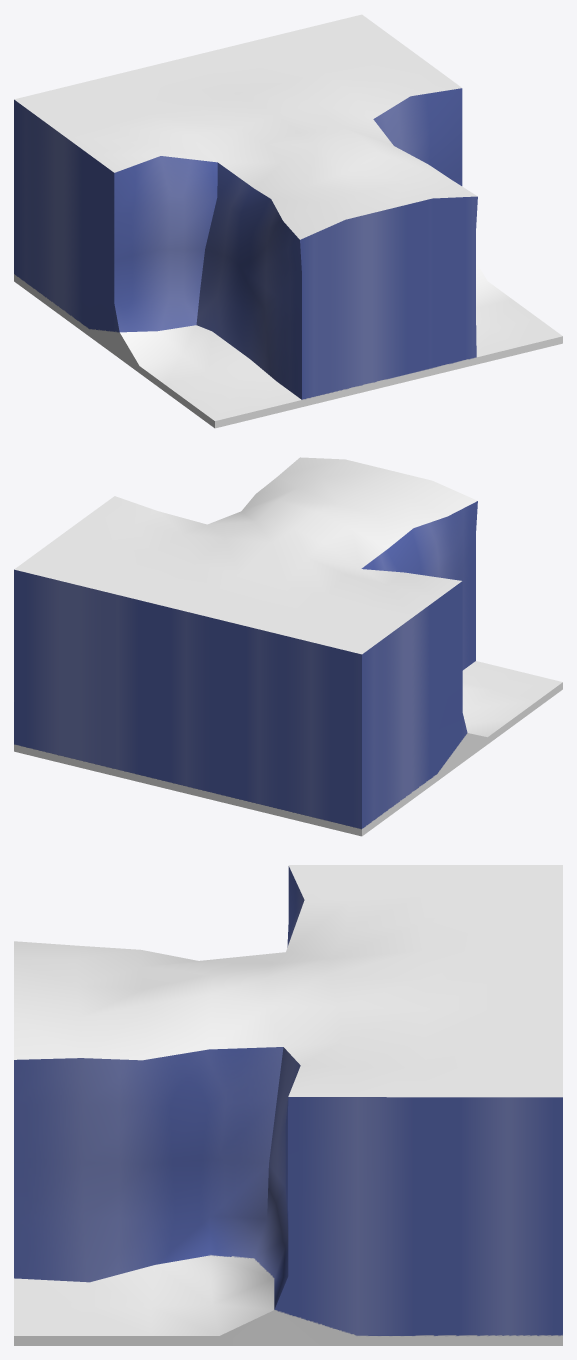
File: wall_straight_join1_1.glb
The picture shows the model from 3 angles, top to bottom: view 1: azimuth 30°, elevation 25°; view 2: azimuth 150°, elevation 25°; view 3: azimuth 270°, elevation 25°; orthographic projection. The views are drawn at different scales.
Parts seen in each view (by area): view 1: wall_slim_join1_1.001; view 2: wall_slim_join1_1.001; view 3: wall_slim_join1_1.001.
Part boxes in pixels (x1=…): wall_slim_join1_1.001: x1=14, y1=14, x2=562, y2=428; wall_slim_join1_1.001: x1=14, y1=457, x2=562, y2=836; wall_slim_join1_1.001: x1=14, y1=865, x2=562, y2=1345.
Size of the model in its own units: 2 by 1.05 by 2.
1 material, 1 textured.
